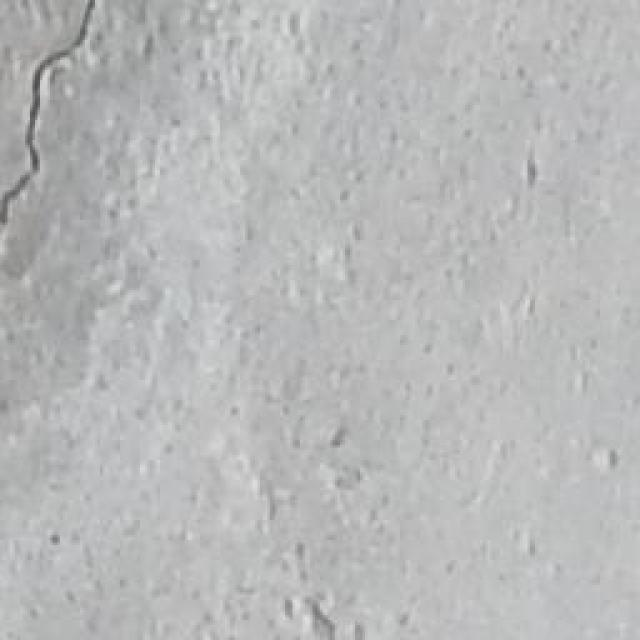concrete-crack: (0, 0, 95, 238)
